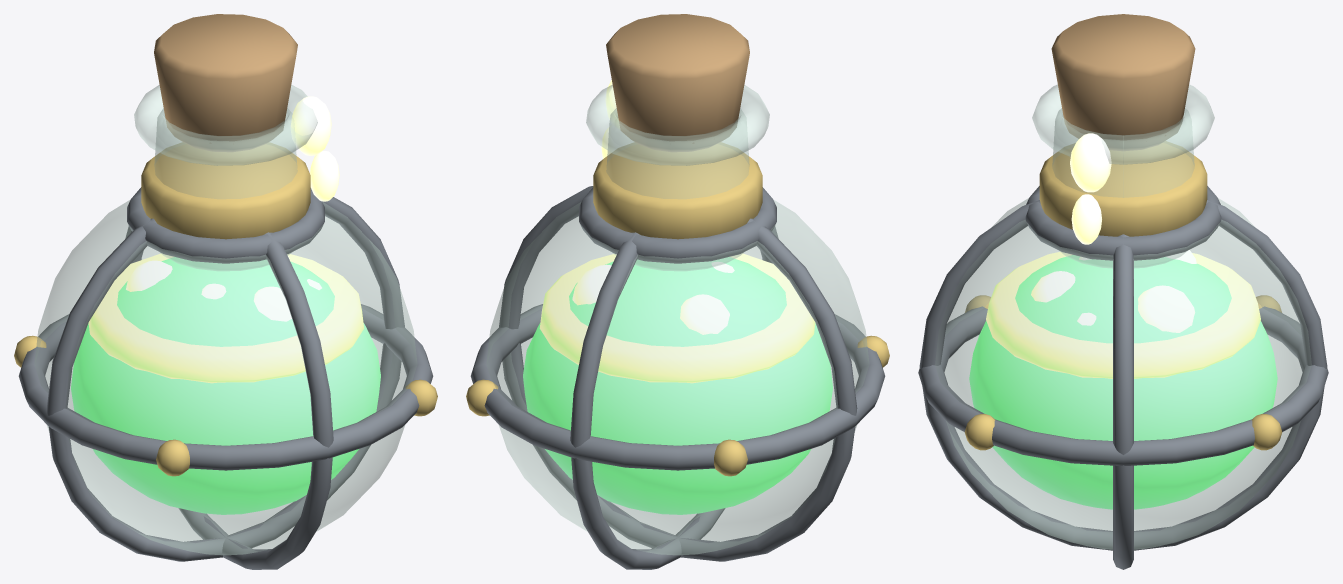
Rendered from potion_flask.glb.
The picture shows the model from 3 angles, left to right: view 1: azimuth 30°, elevation 25°; view 2: azimuth 150°, elevation 25°; view 3: azimuth 270°, elevation 25°; orthographic projection.
Parts seen in each view (by area): view 1: PotionFlaskProjectile; view 2: PotionFlaskProjectile; view 3: PotionFlaskProjectile.
Boxes of the visible parts, x1,y1,x2,y2 form: PotionFlaskProjectile: (14, 14, 437, 569); PotionFlaskProjectile: (466, 14, 889, 569); PotionFlaskProjectile: (918, 14, 1328, 569).
Size of the model in its own units: 0.5024 by 0.6888 by 0.5024.
